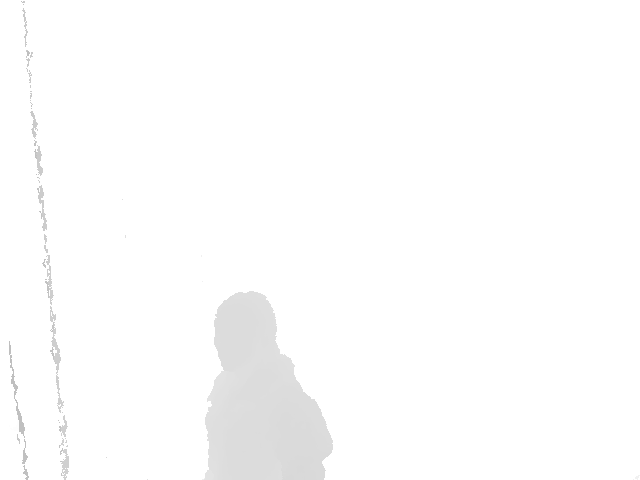head: (213, 290, 280, 380)
person: (203, 290, 334, 480)
